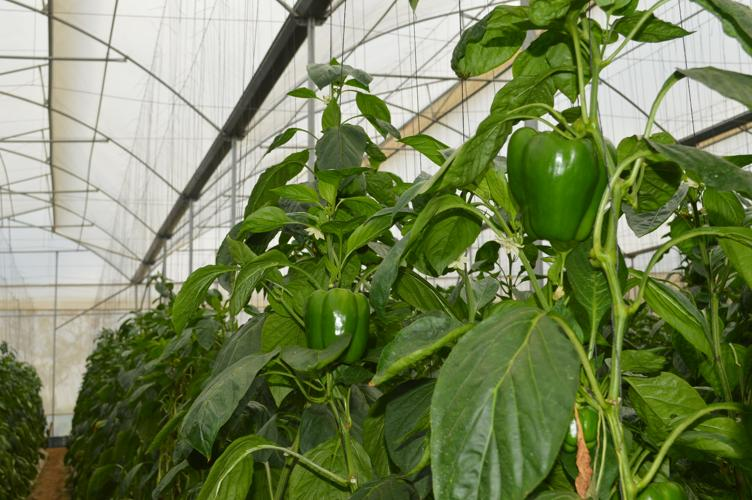BellPepper: (505, 120, 607, 254), (294, 281, 371, 368)
